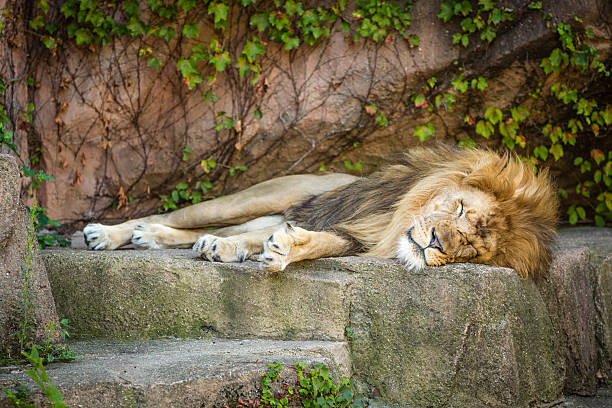lion: (282, 122, 590, 313)
